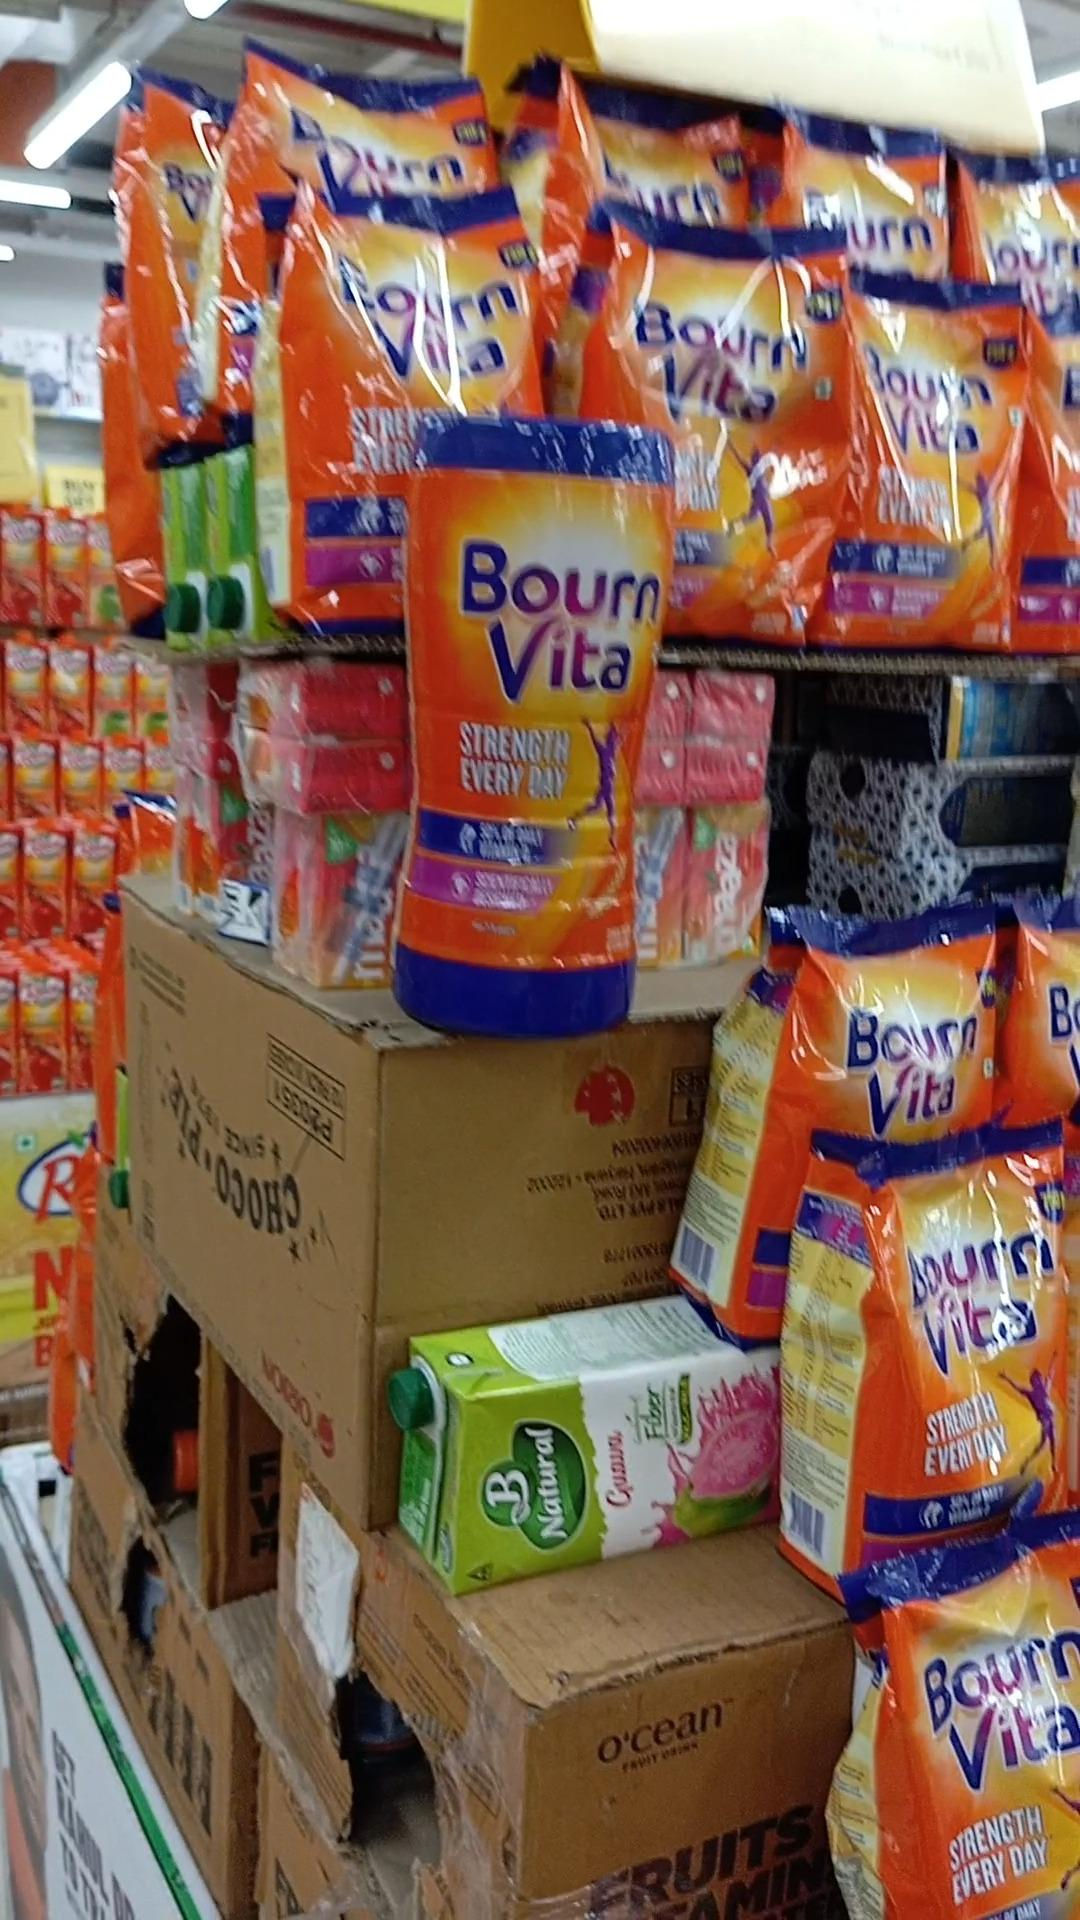BOURN_VITA_1_KG_JAR: (404, 392, 641, 1047)
